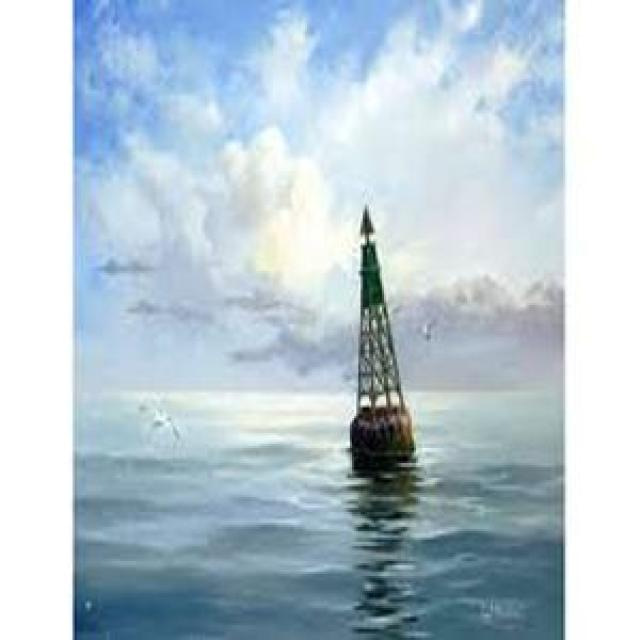buoy: (334, 199, 429, 467)
